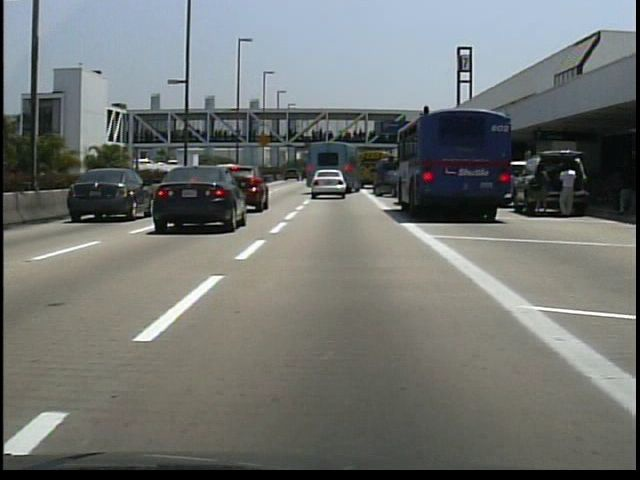person: (527, 161, 552, 222), (554, 161, 578, 222)
